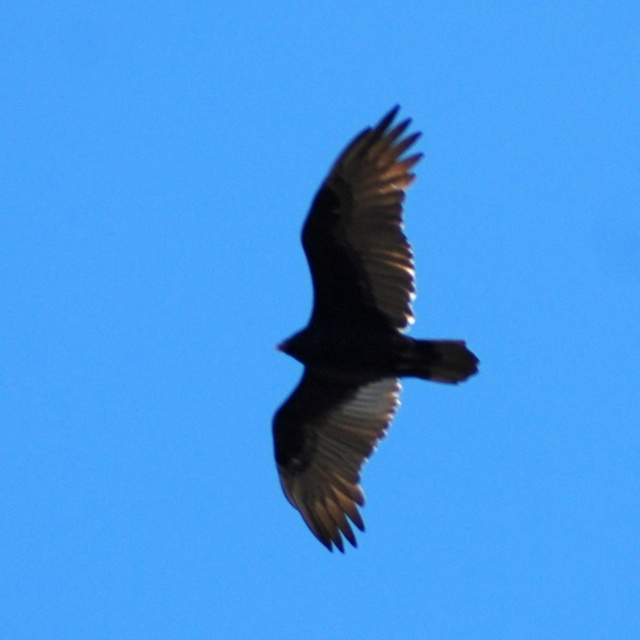Eagle: (269, 101, 486, 555)
